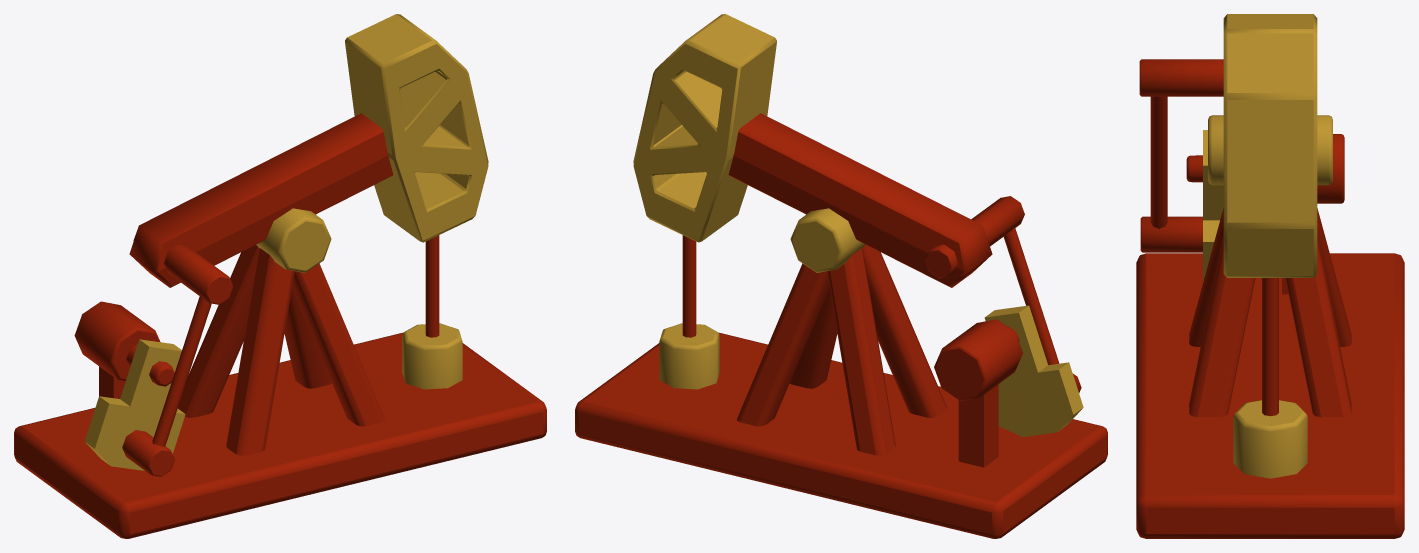
File: Fuel Factory Top Solid.fbx
3 views of the same model, side by side, from view 1: azimuth 30°, elevation 25°; view 2: azimuth 150°, elevation 25°; view 3: azimuth 270°, elevation 25° (orthographic). The views are drawn at different scales.
Visible parts, largest first — view 1: Fuel Factory Top; view 2: Fuel Factory Top; view 3: Fuel Factory Top.
Boxes of the visible parts, x1,y1,x2,y2 form: Fuel Factory Top: (14, 14, 546, 538); Fuel Factory Top: (575, 14, 1107, 538); Fuel Factory Top: (1136, 14, 1404, 538).
Bounding box in the file's own units: 600 × 524 × 272.
